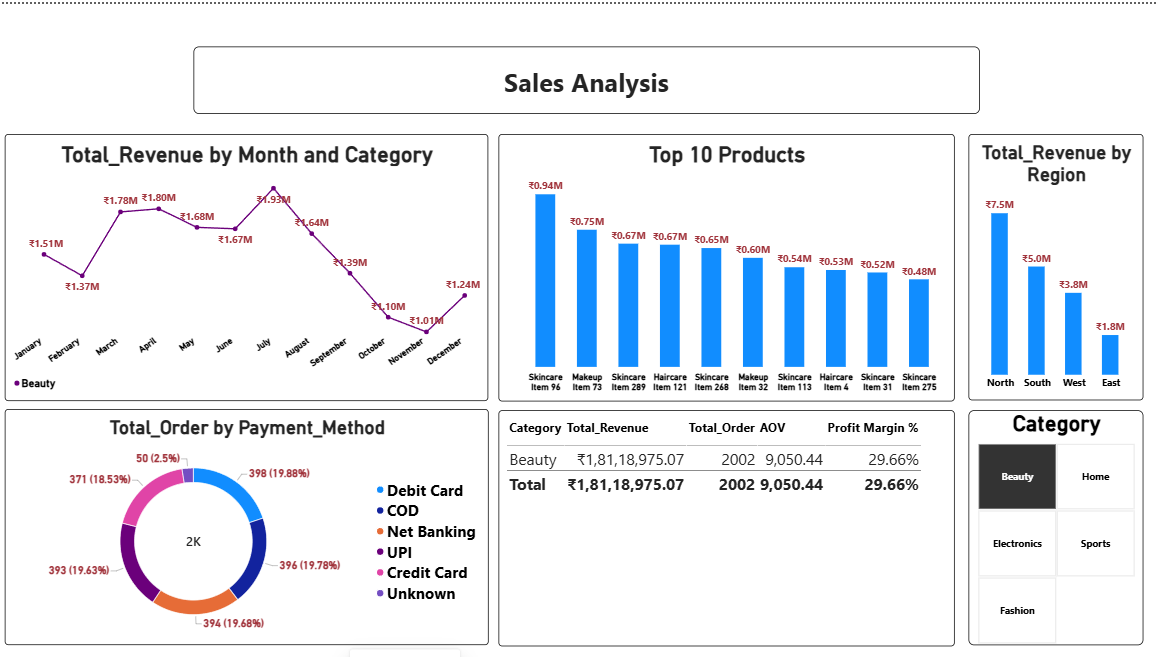

Layout of this report page (visuals, bound fields, positions):
{"tool":"powerbi","page":{"name":"Sales Analysis","canvas":[2560,1440],"ordinal":1},"visuals":[{"type":"lineChart","fields":{"Category":["dates.Date.Variation.Date Hierarchy.Month"],"Series":["Dim_Products.Category"],"Y":["Measures (3).Total_Revenue"]},"box":[19.4,284.8,1061.8,586.2],"z":0},{"type":"slicer","fields":{"Values":["Dim_Products.Category"]},"box":[2107.7,891.9,411.7,516],"z":1000},{"type":"tableEx","fields":{"Values":["Dim_Products.Category","Measures (3).Total_Revenue","Measures (3).Total_Order","Measures (3).AOV","Measures (3).Profit Margin %"]},"box":[1100.5,891.9,982.5,518.7],"z":2000},{"type":"clusteredColumnChart","fields":{"Category":["Dim_Customers.Region"],"Y":["Measures (3).Total_Revenue"]},"box":[2057.3,284.8,461.8,586.2],"z":3000},{"type":"columnChart","fields":{"Category":["Dim_Products.Product_Name"],"Y":["Measures (3).Total_Revenue"]},"box":[1100.5,284.8,931.9,597.3],"z":4000},{"type":"donutChart","fields":{"Category":["Fact_Orders.Payment_Method"],"Y":["Measures (3).Total_Order"]},"box":[19.2,889.2,1062.1,518.7],"z":5000},{"type":"textbox","box":[236,60.4,1759.2,156.4],"z":5001}]}

Visuals, with their boxes in screenshot pixels (x1, y1, x2, y2), scaled from the page's 2560x1440 canvas onto the 1156x657 screenshot:
lineChart - dates.Date.Variation.Date Hierarchy.Month x Dim_Products.Category: select_region(9, 130, 488, 397)
slicer - Dim_Products.Category: select_region(952, 407, 1138, 642)
tableEx - Dim_Products.Category x Measures (3).Total_Revenue: select_region(497, 407, 941, 644)
clusteredColumnChart - Dim_Customers.Region x Measures (3).Total_Revenue: select_region(929, 130, 1138, 397)
columnChart - Dim_Products.Product_Name x Measures (3).Total_Revenue: select_region(497, 130, 918, 402)
donutChart - Fact_Orders.Payment_Method x Measures (3).Total_Order: select_region(9, 406, 488, 642)
textbox: select_region(107, 28, 901, 99)
